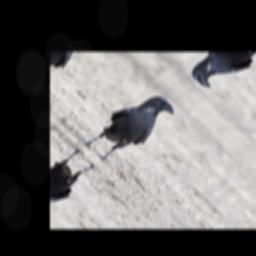Crow: (76, 84, 184, 169)
